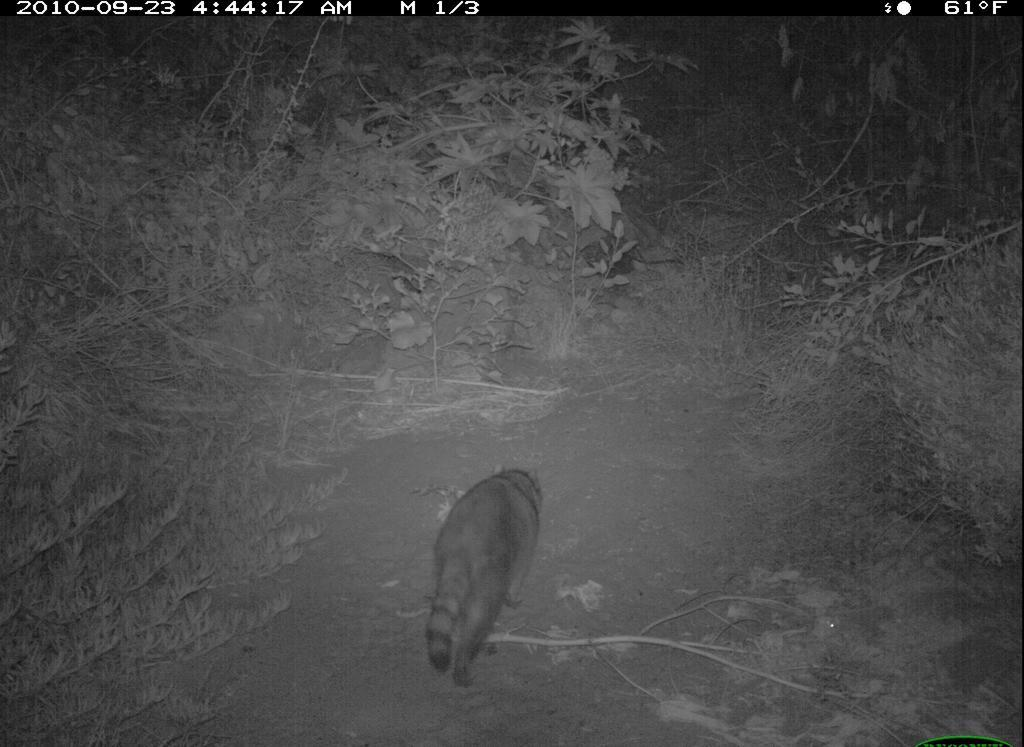raccoon: (413, 465, 560, 703)
